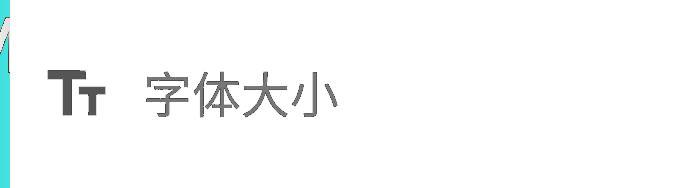CheckedTextView: (1, 1, 695, 187)
